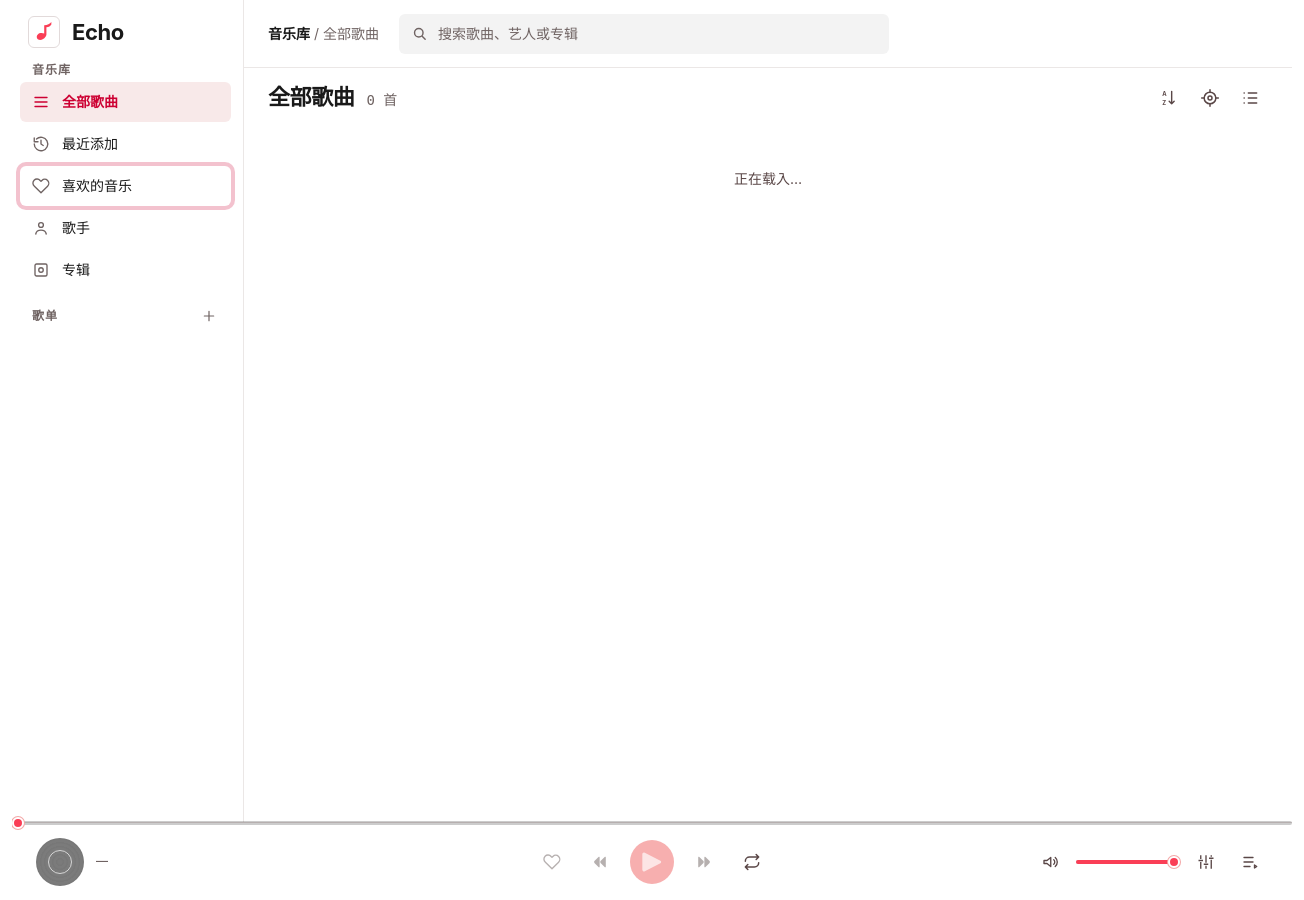
Scenario: Keyboard path (task 12.2) › a nav button is keyboard-reachable (name + focus) and activation switches the view
What coordinates should you click on to do the following:
click the button "喜欢的音乐"
I would click on:
 (126, 186)
Its box is left=20, top=166, right=231, bottom=206.
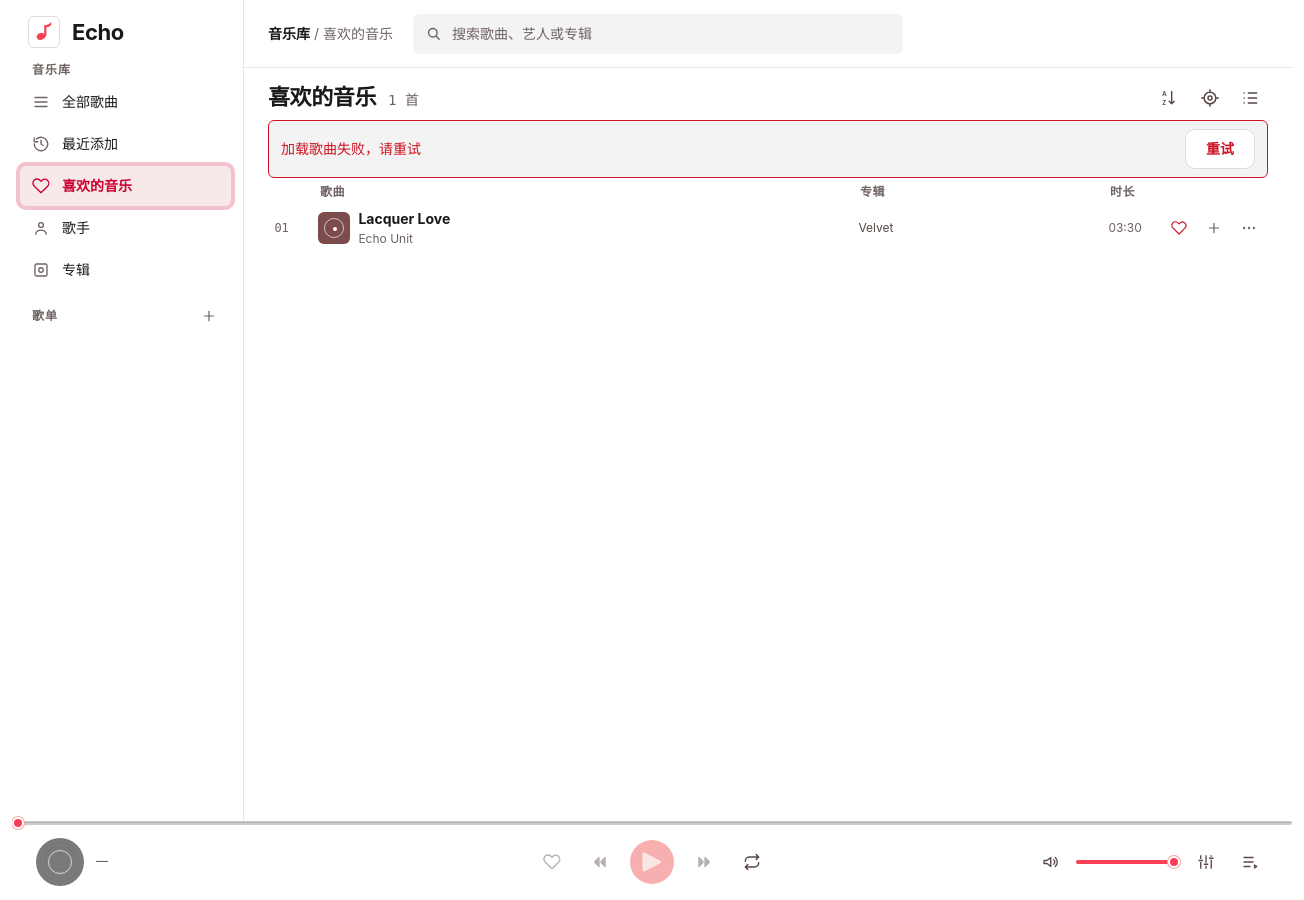
expect the heading "喜欢的音乐" is shown: met, box left=268, top=86, right=376, bottom=110
